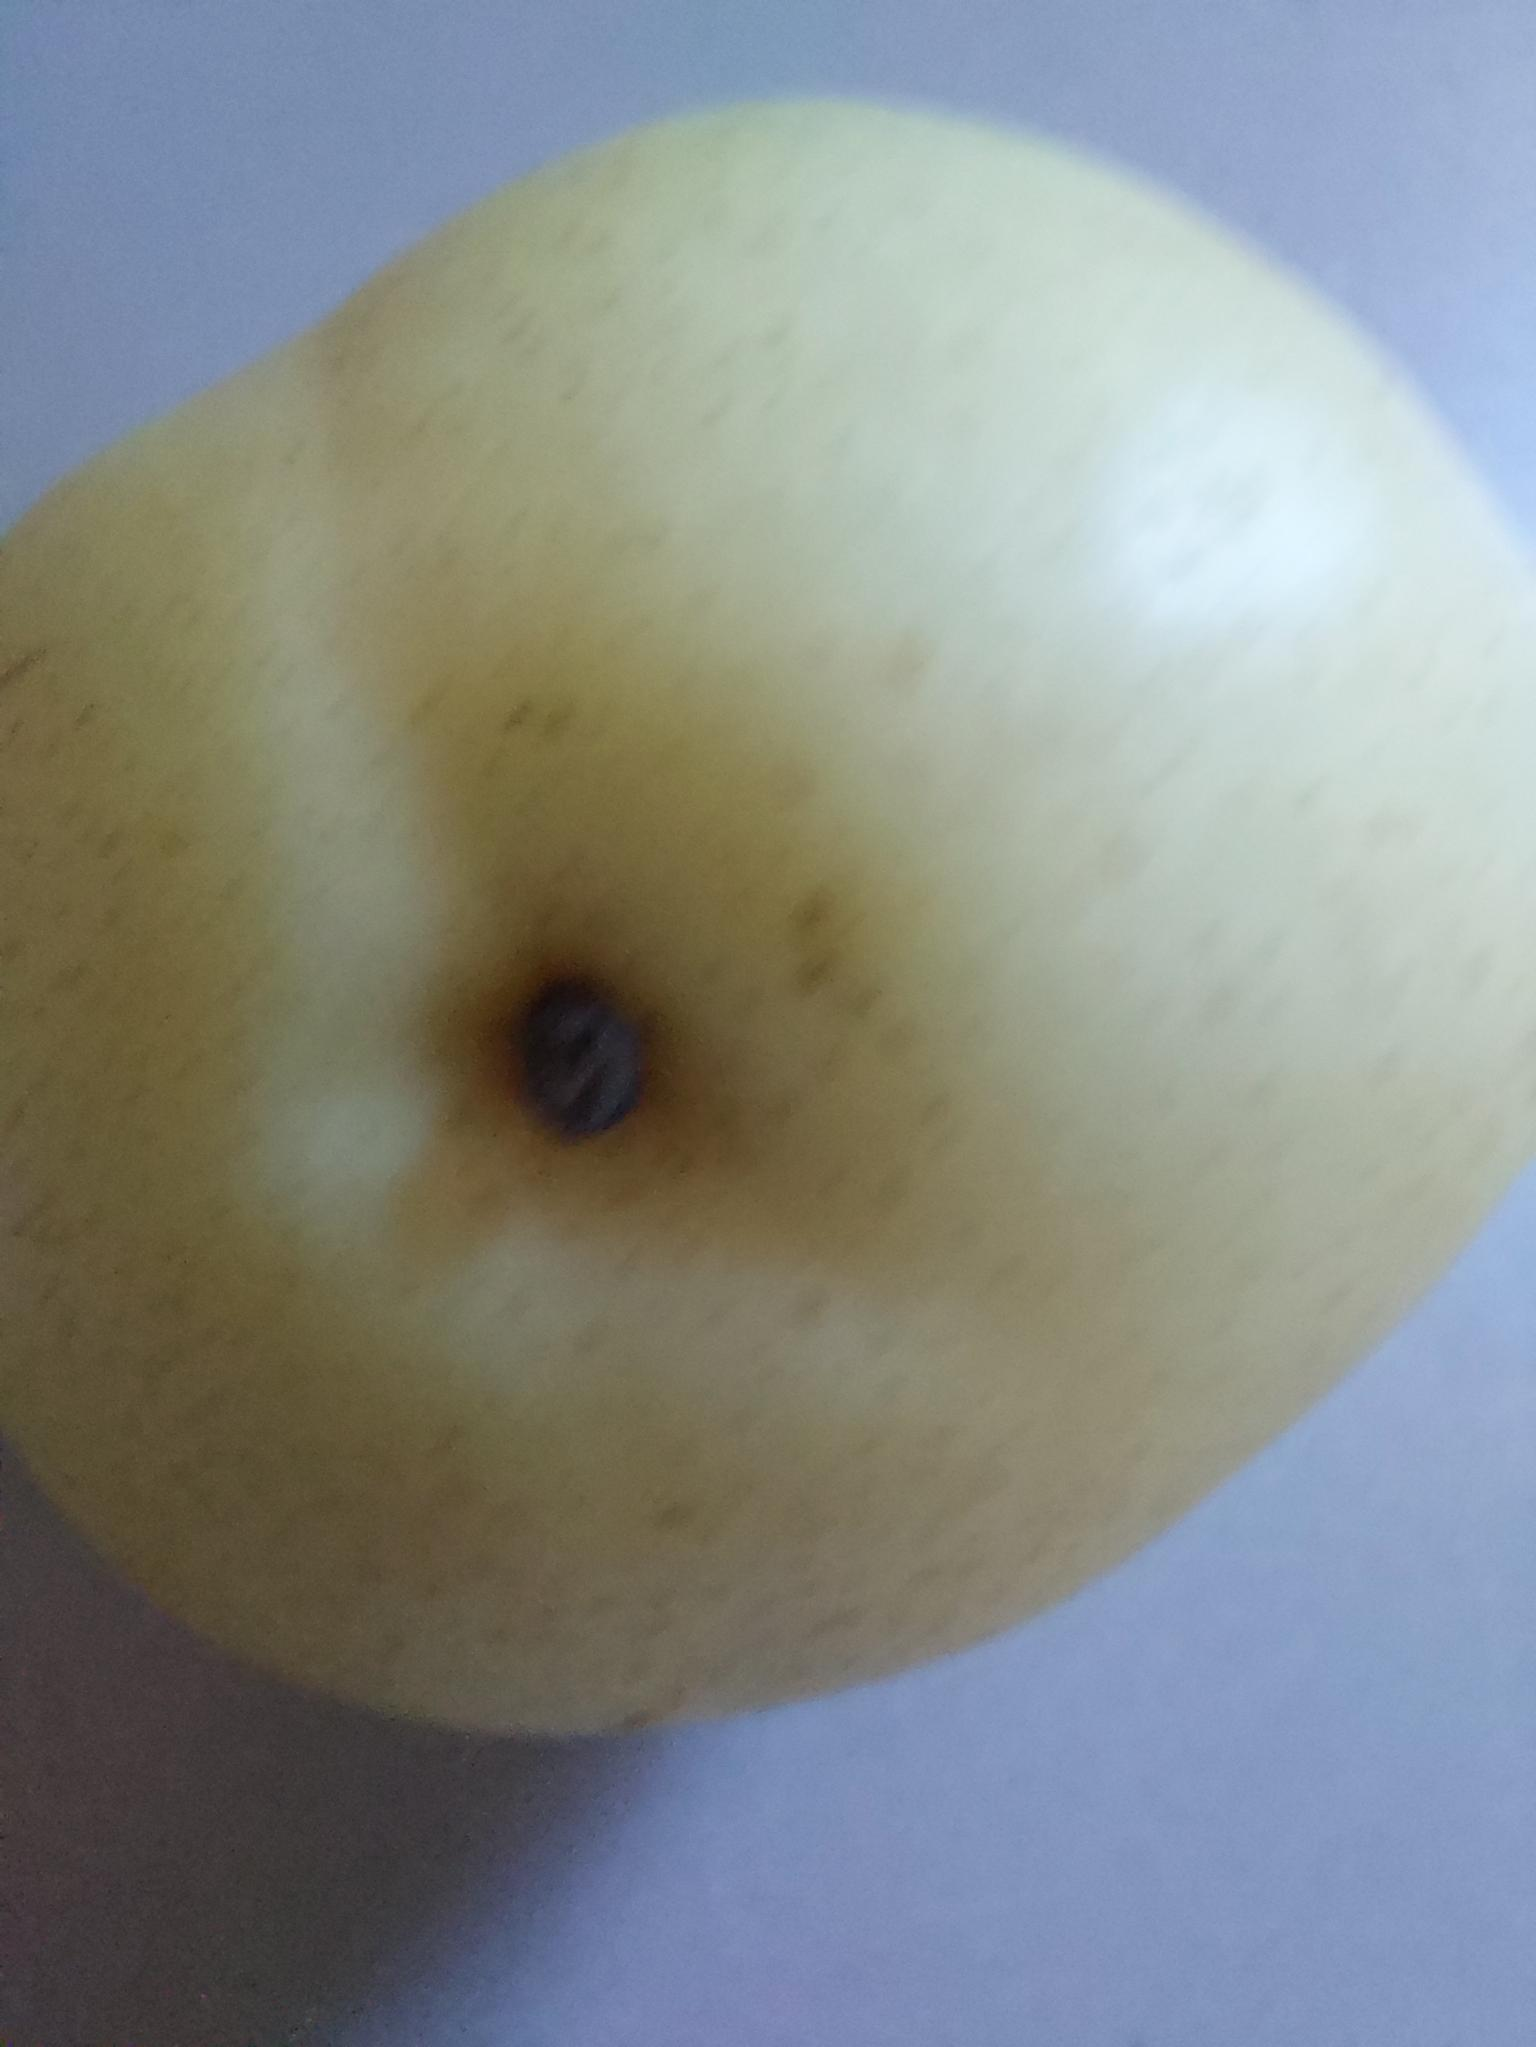Good Pear: (0, 97, 1536, 1755)
